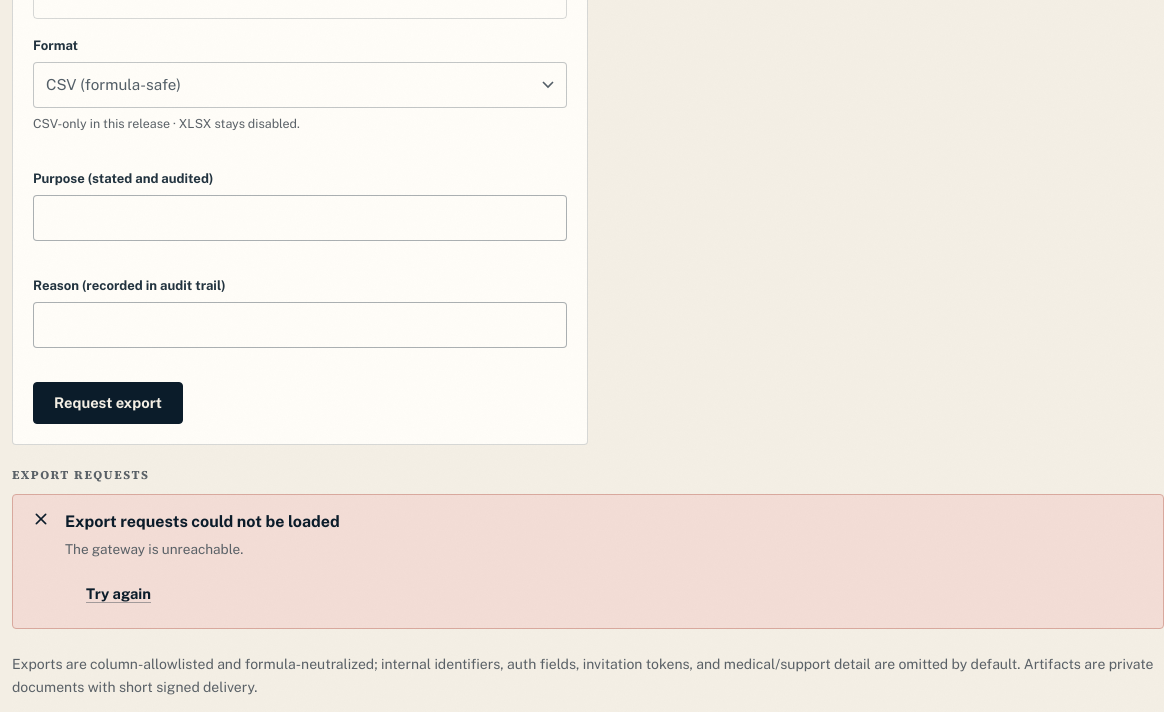
Test: exports workspace › shows a retryable error when the request list cannot load
The width and height of the screenshot is (1164, 712).
(page scrolled)
Expected: the text "Export requests could not be loaded" is shown, [65,510,340,535]
Expected: the text "No export requests" is not shown
Click the button "Try again" at {"x": 118, "y": 594}, box [65,573,172,614]
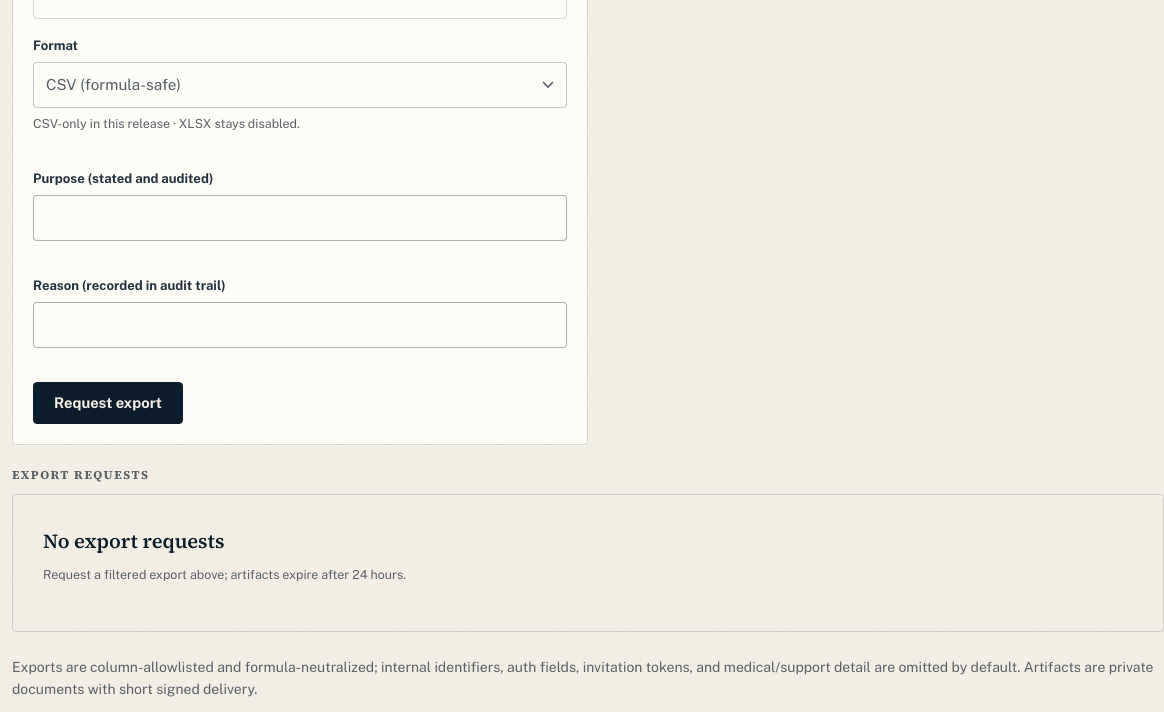
Expected: the text "No export requests" is shown, [43,528,224,556]
